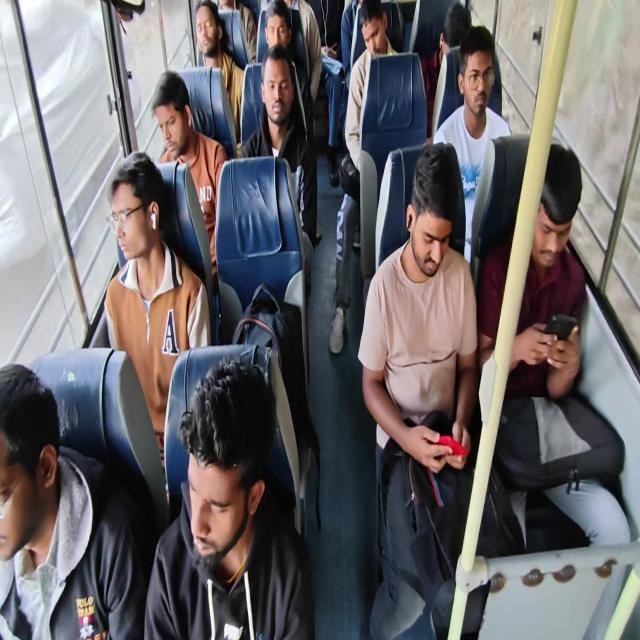person: (178, 364, 269, 566), (0, 368, 53, 570), (394, 158, 452, 282), (516, 156, 573, 278), (111, 177, 163, 276), (148, 70, 188, 154), (360, 11, 392, 74), (468, 54, 499, 118), (262, 54, 291, 122), (194, 5, 229, 55), (443, 5, 469, 52), (267, 18, 289, 58)
